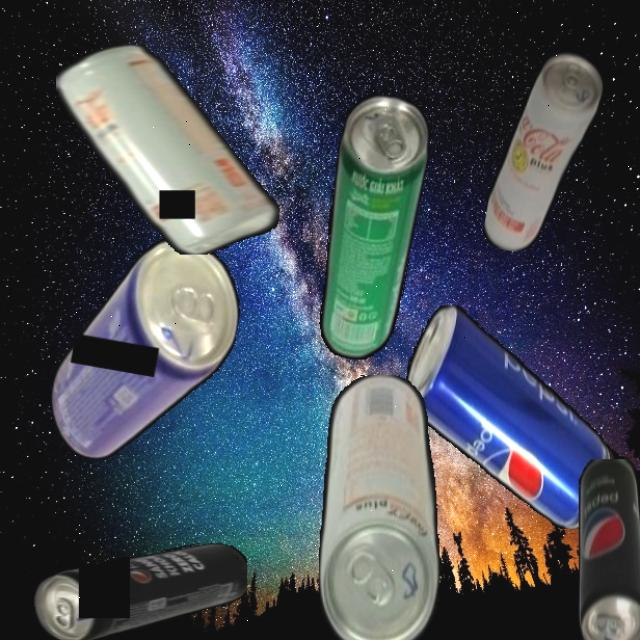debris: (42, 222, 250, 479), (56, 44, 280, 255), (405, 304, 610, 529), (304, 89, 438, 366), (318, 374, 439, 640), (481, 44, 609, 262), (34, 542, 248, 640), (577, 458, 640, 640)
